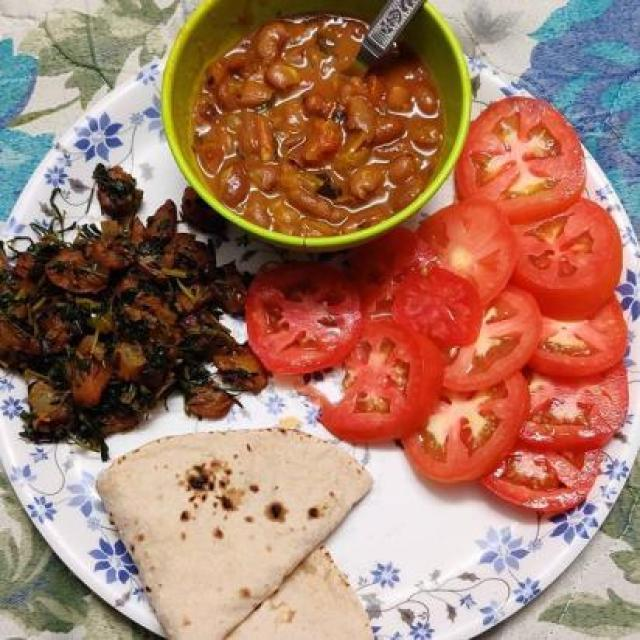alooparatha-chapati: (91, 420, 400, 640)
rajma: (196, 56, 432, 234)
